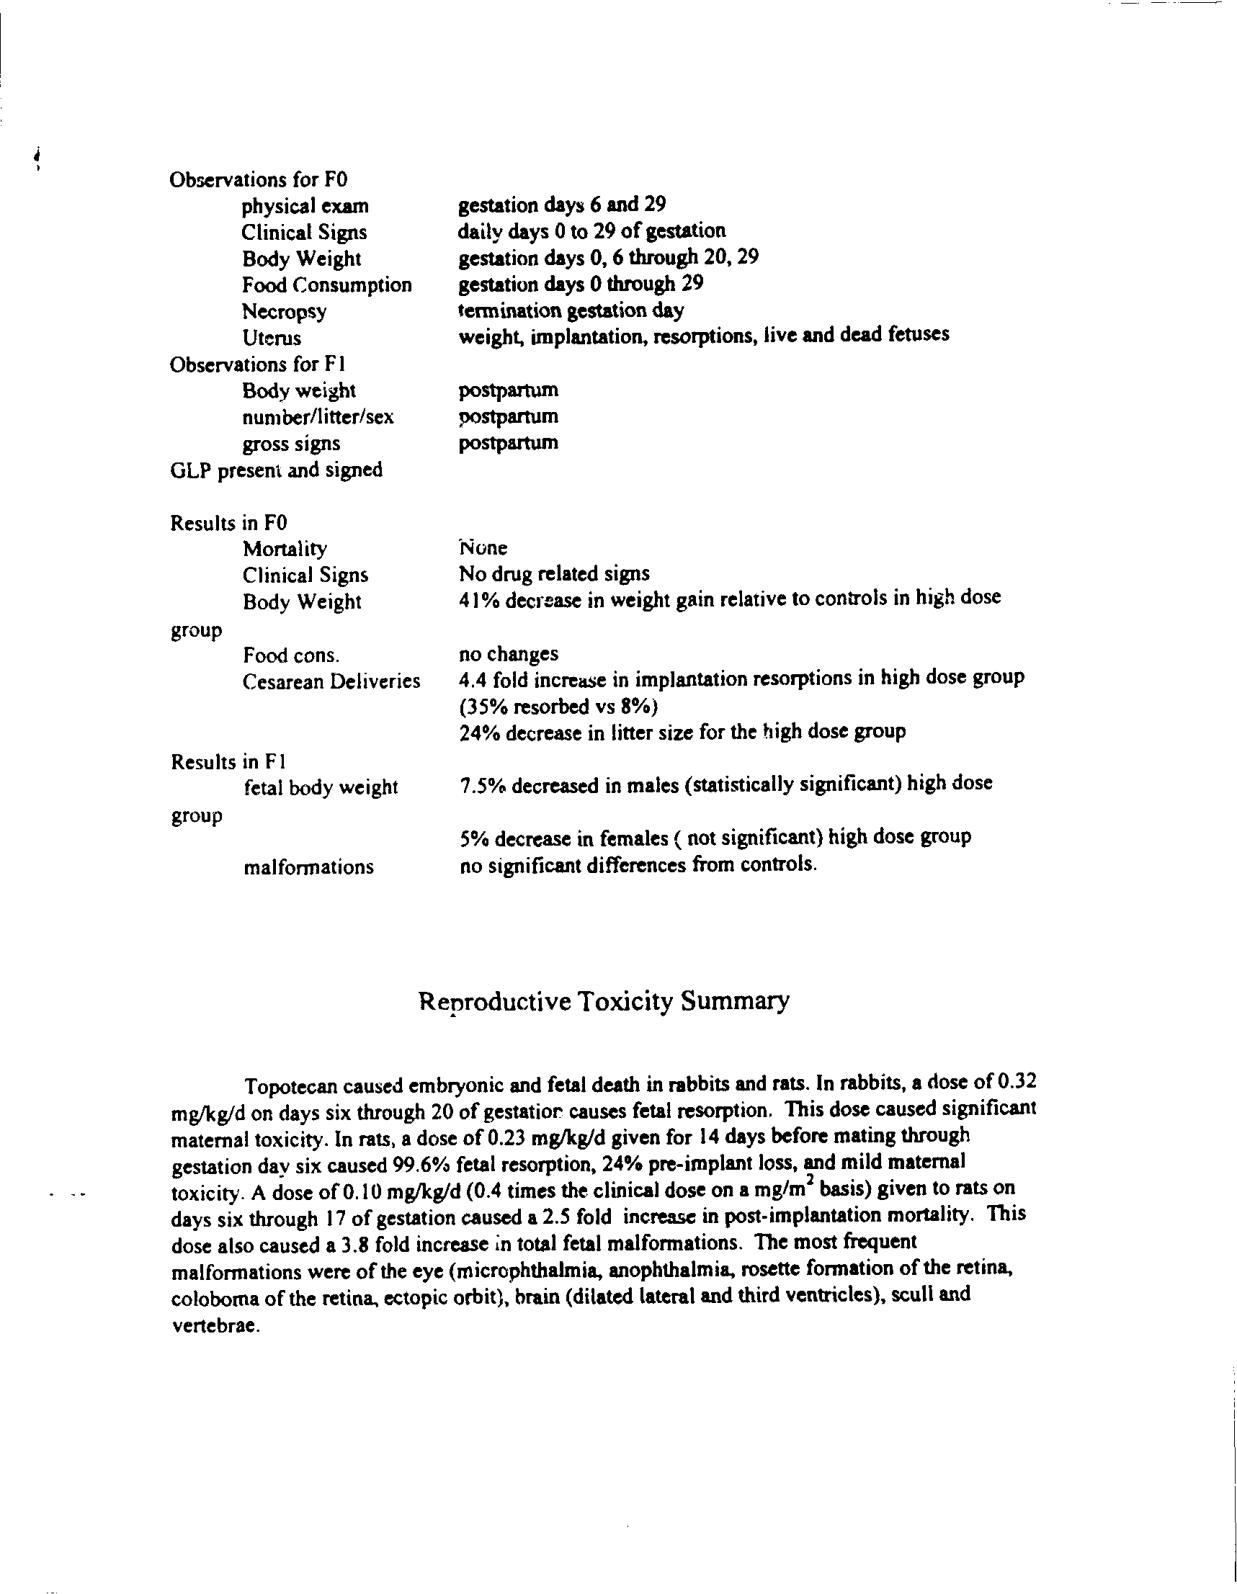nolines: (168, 168, 1031, 880)
